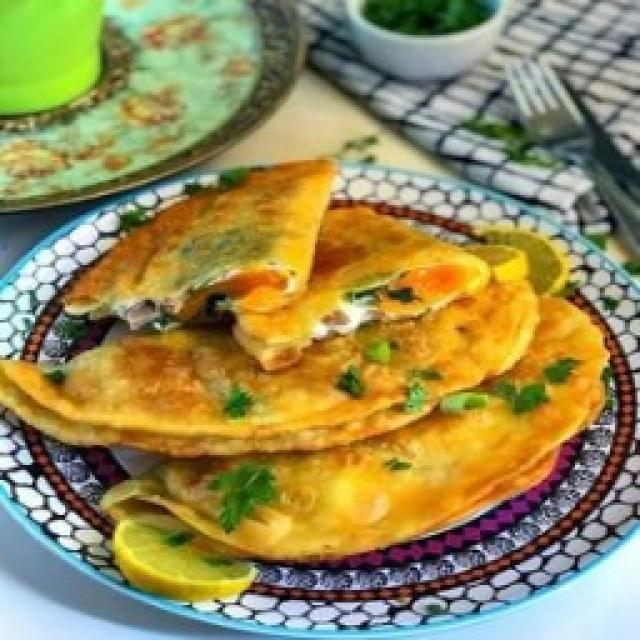Brik: (0, 158, 605, 562)
